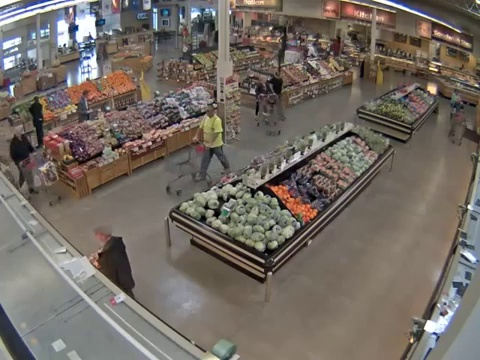face: (95, 230, 104, 242), (203, 107, 213, 116)
